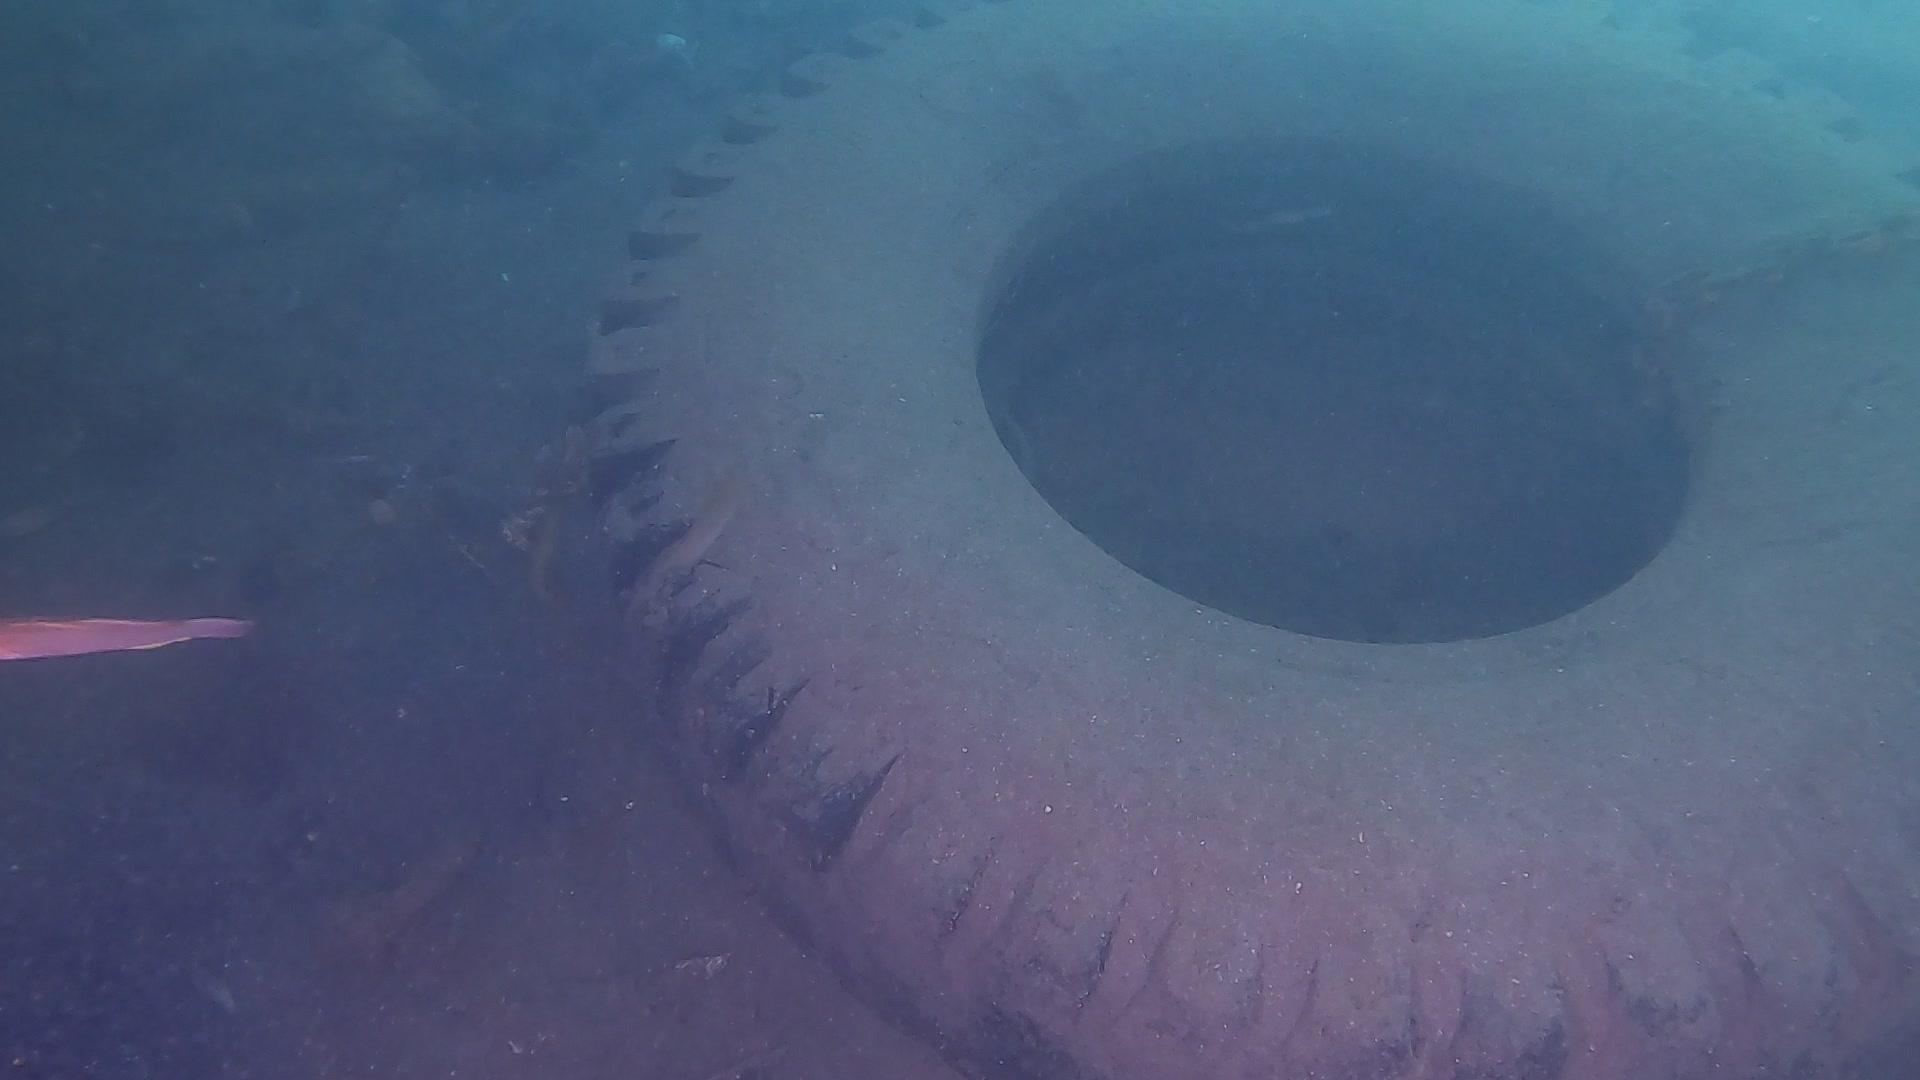tire: (582, 5, 1920, 1080)
